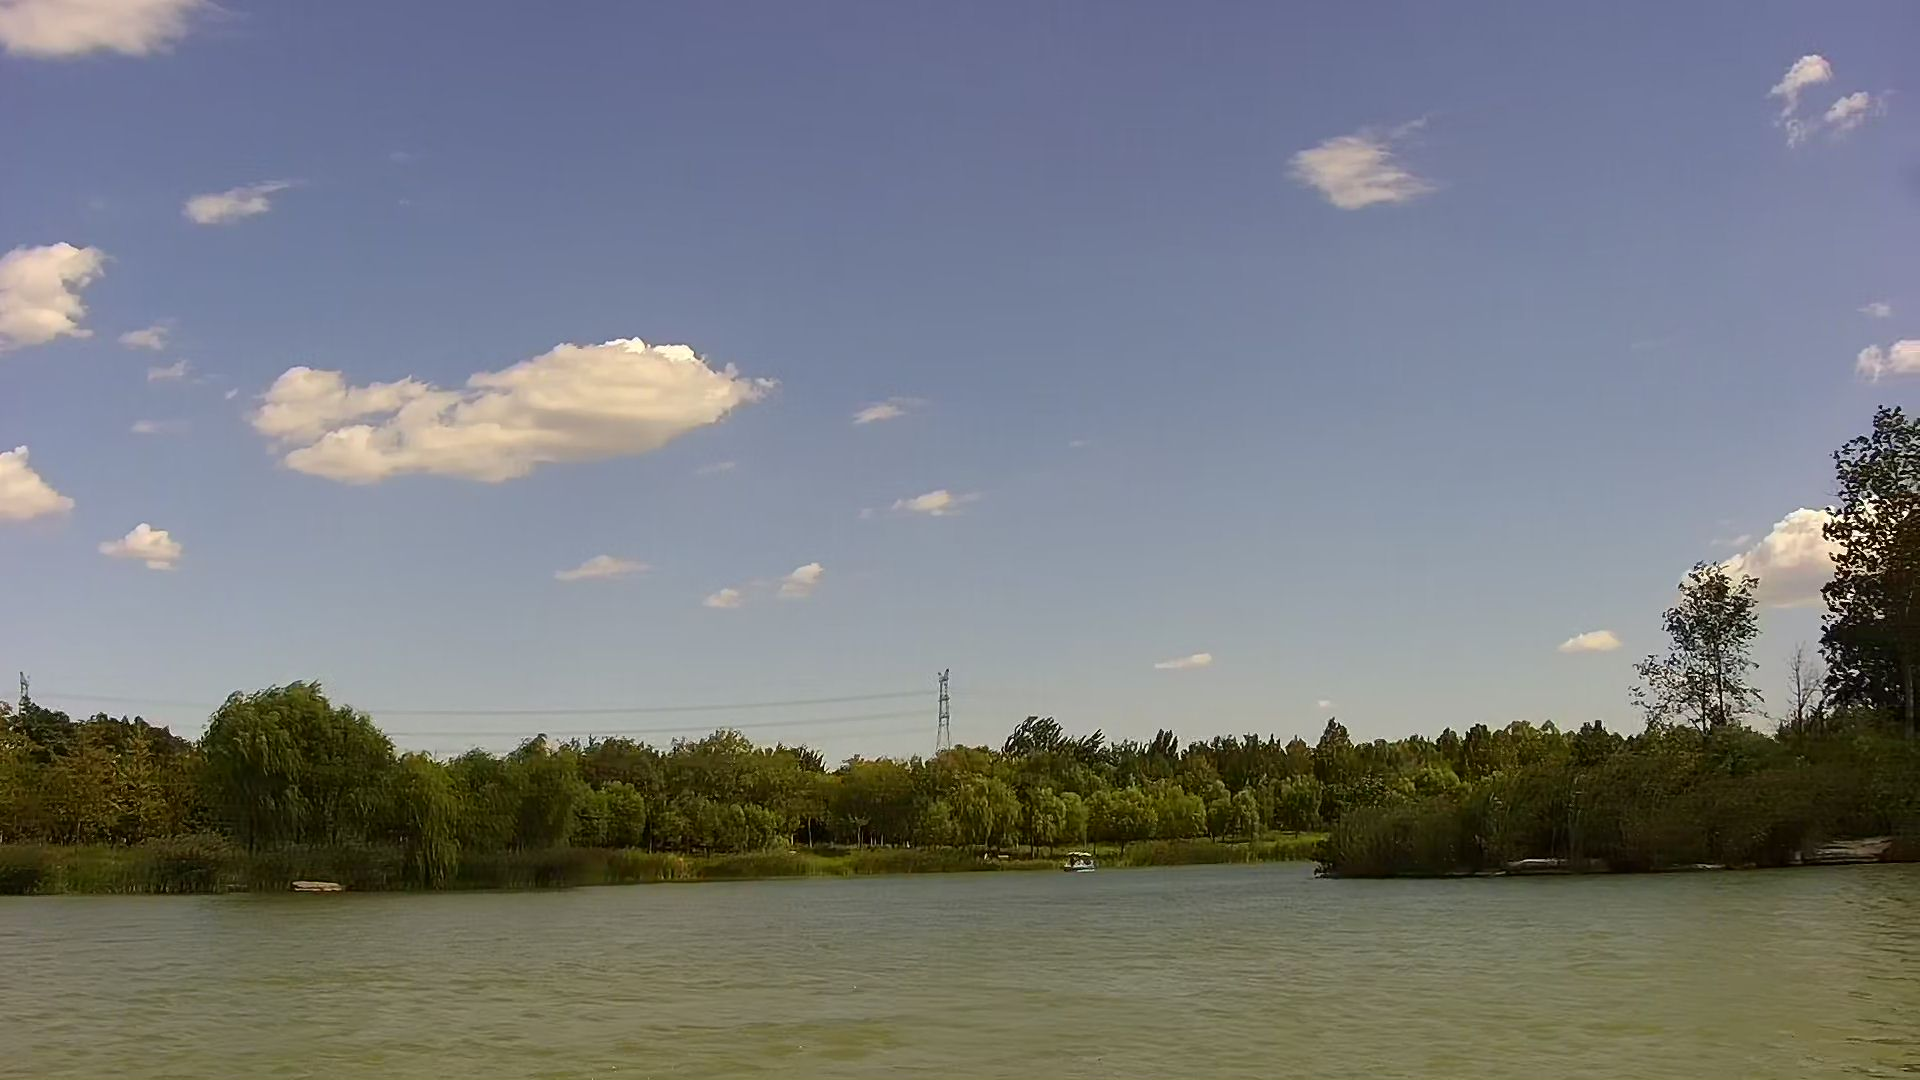boat: (1062, 847, 1092, 872)
rock: (1789, 833, 1880, 865), (1505, 851, 1594, 874), (287, 877, 335, 893)
